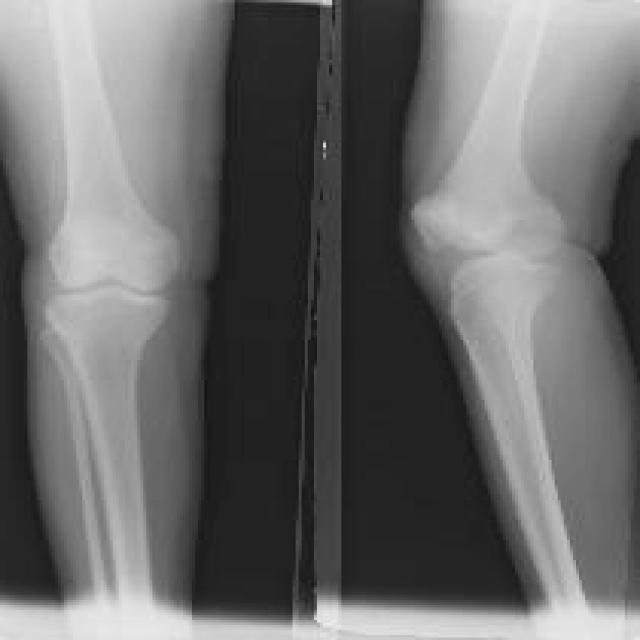normal: (414, 0, 584, 599), (43, 0, 180, 596)
